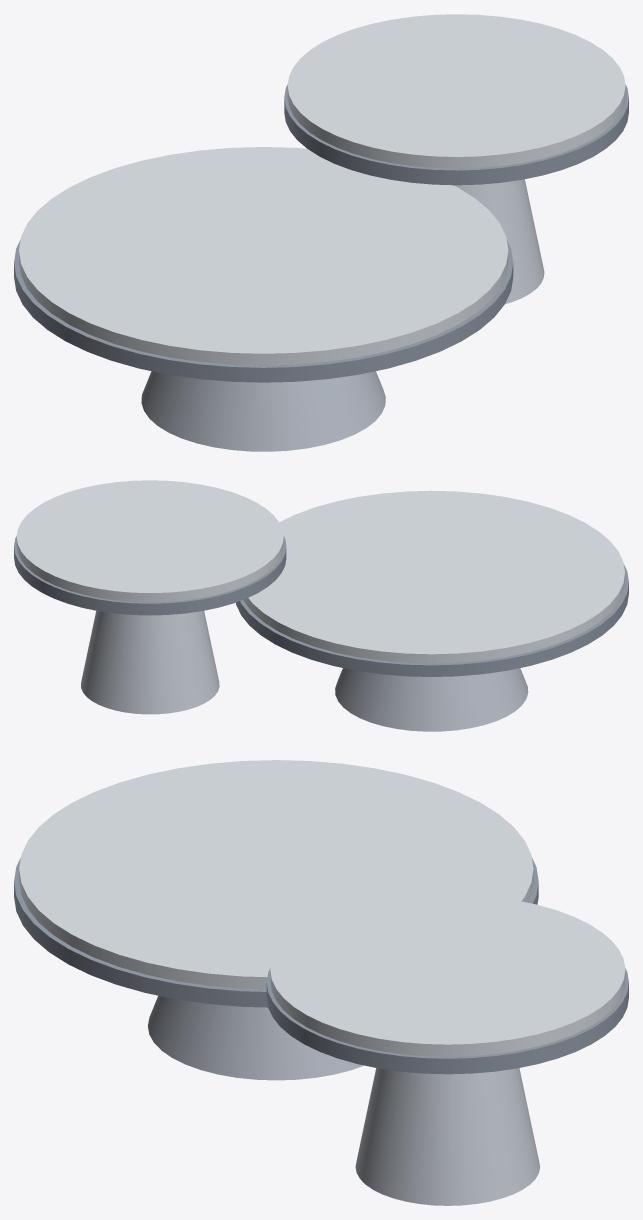
The model's file is coffeetable.glb.
The picture shows the model from 3 angles, top to bottom: view 1: azimuth 30°, elevation 25°; view 2: azimuth 150°, elevation 25°; view 3: azimuth 270°, elevation 25°; orthographic projection. The views are drawn at different scales.
Parts seen in each view (by area): view 1: coffeetable; view 2: coffeetable; view 3: coffeetable.
Part boxes in pixels (<box>): coffeetable: <box>14,14,628,451</box>; coffeetable: <box>14,480,628,731</box>; coffeetable: <box>14,760,628,1205</box>.
Size of the model in its own units: 1.59 by 0.4445 by 1.26.
